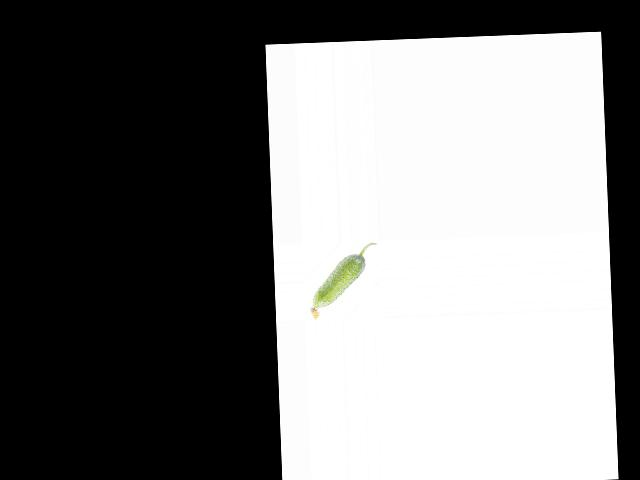cucumber: (307, 242, 379, 320)
